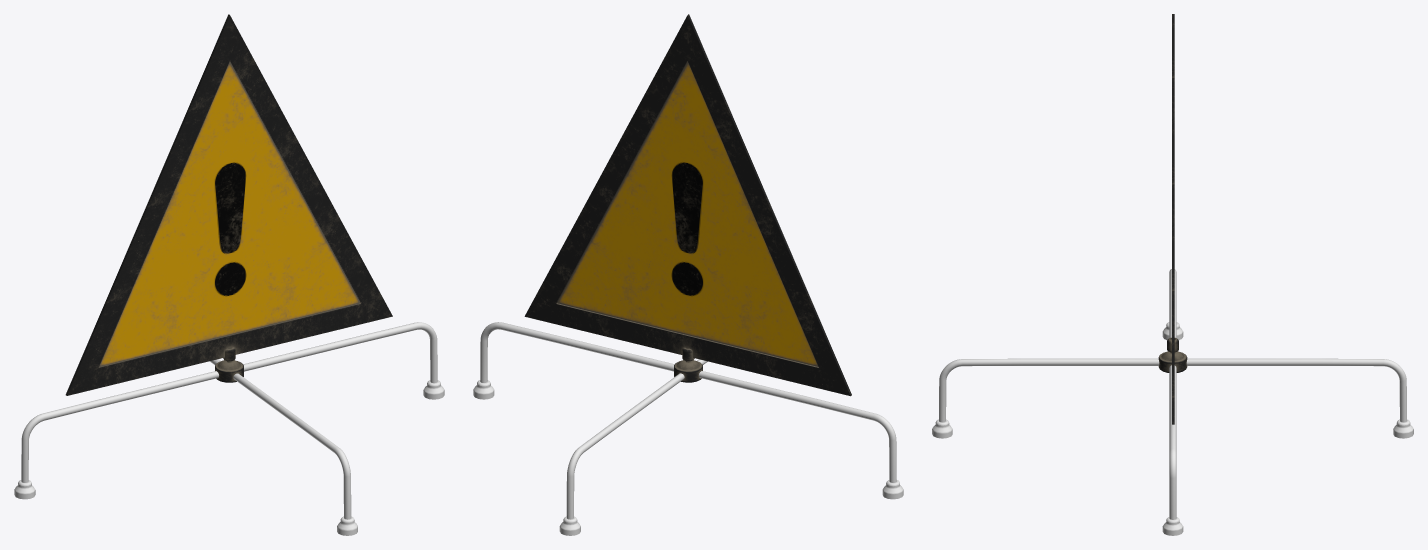
The model's file is caution.dae.
3 views of the same model, side by side, from view 1: azimuth 30°, elevation 25°; view 2: azimuth 150°, elevation 25°; view 3: azimuth 270°, elevation 25° (orthographic). The views are drawn at different scales.
Parts seen in each view (by area): view 1: Base, 02, 01; view 2: Base, 02, 01; view 3: 01, 02, Base.
Boxes of the visible parts, bbox=[...] form: Base: bbox=[65, 14, 392, 395]; 02: bbox=[14, 322, 444, 499]; 01: bbox=[210, 359, 357, 535]; Base: bbox=[524, 14, 851, 396]; 02: bbox=[473, 322, 903, 499]; 01: bbox=[559, 359, 707, 535]; 01: bbox=[932, 358, 1413, 438]; 02: bbox=[1162, 269, 1183, 535]; Base: bbox=[1158, 14, 1187, 424].
Bounding box in the file's own units: 2.01 × 2.01 × 1.93.
Materials: 2 (1 with a texture image).
